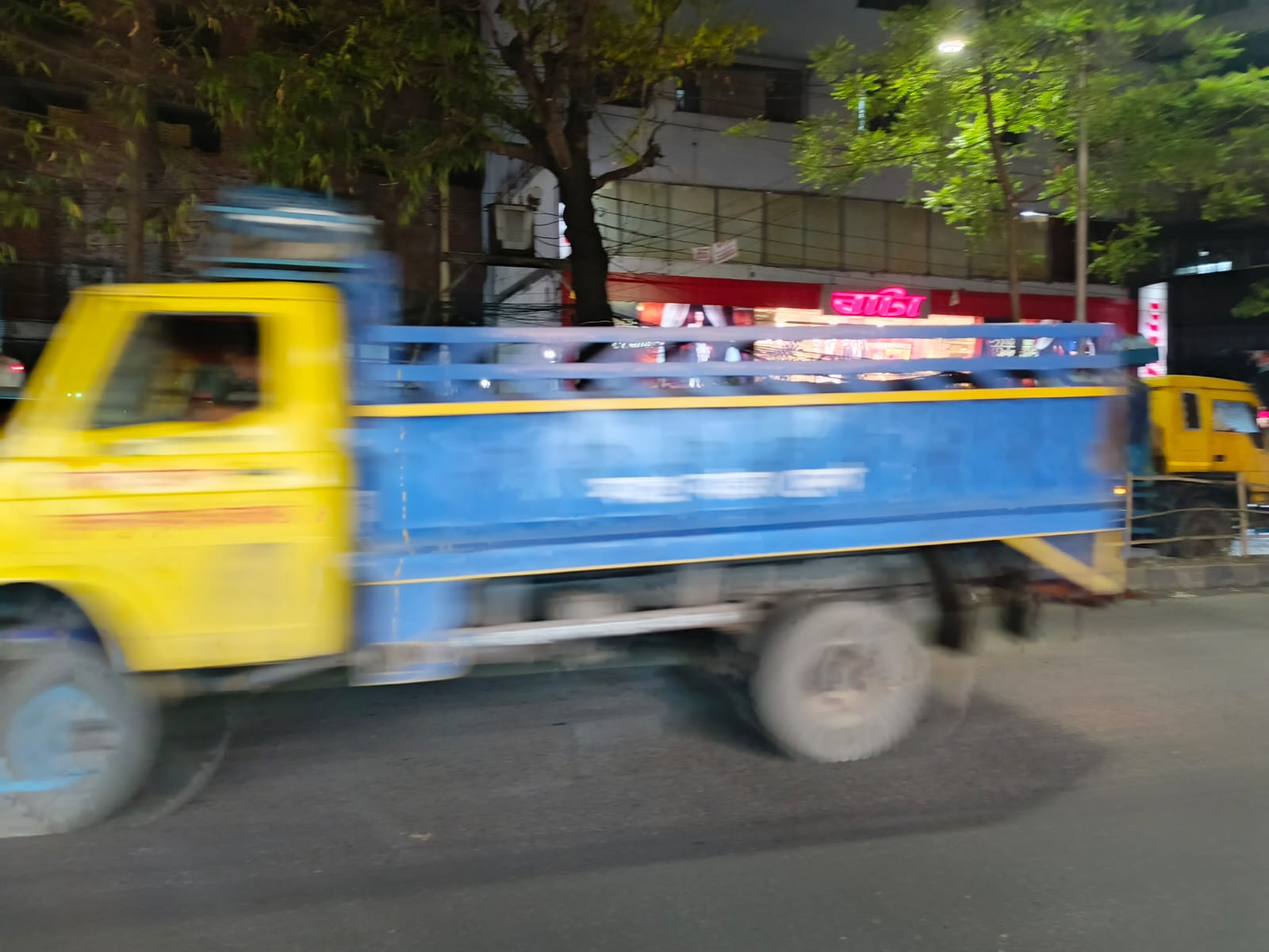Truck: (8, 183, 1174, 952), (1089, 258, 1269, 605)
